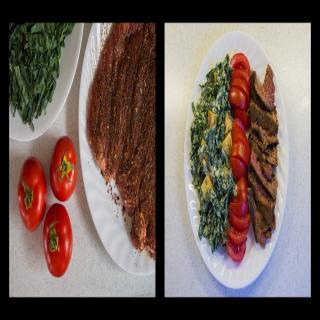tomato: (36, 204, 70, 274), (224, 176, 250, 264), (19, 158, 47, 236), (49, 138, 76, 200), (231, 51, 250, 125), (230, 121, 248, 183)
